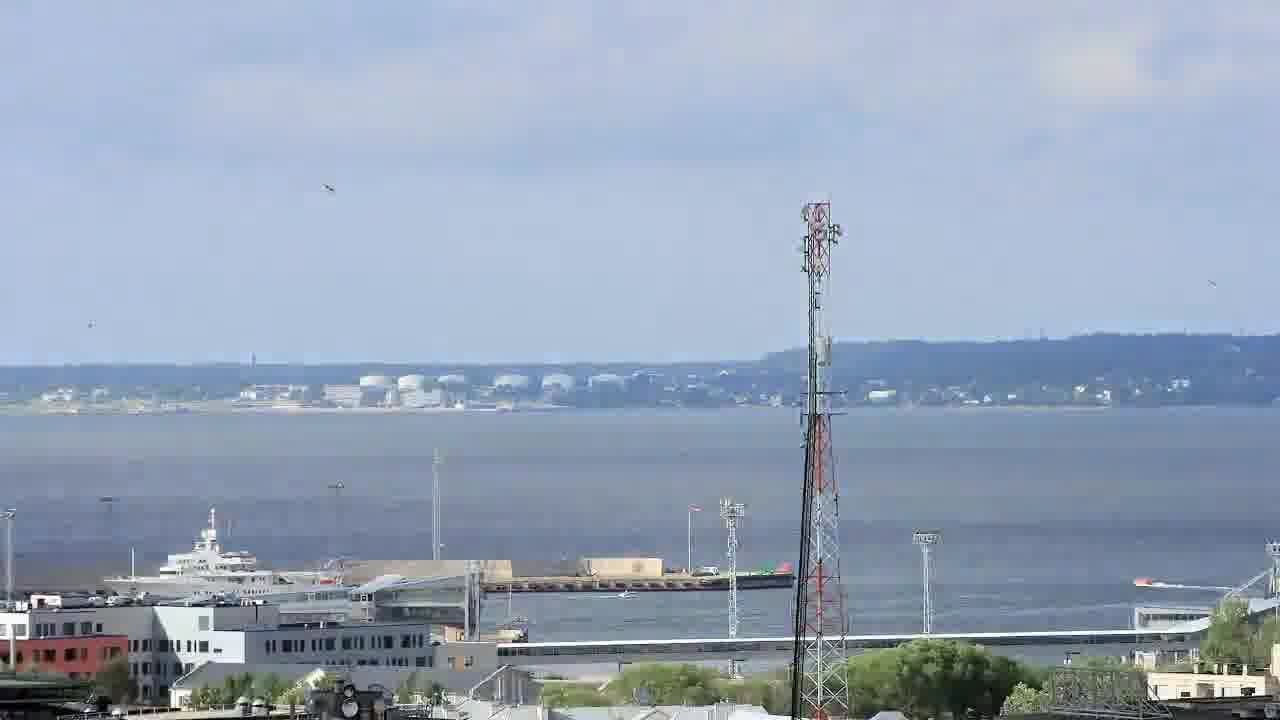type-0: (1109, 566, 1178, 604)
type-3: (68, 492, 354, 611)
